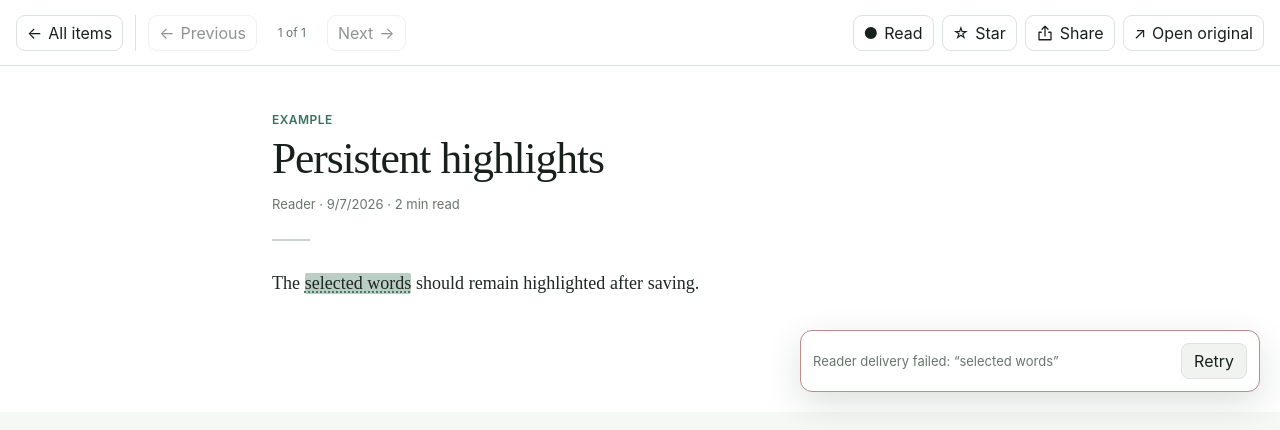
it: article highlights › offers a retry for failed Reader delivery and updates the existing mark after confirmation
This screenshot has width=1280, height=430.
Step 1. Click the button "Retry" → coordinates (1214, 361), box 1181,343 -> 1247,379
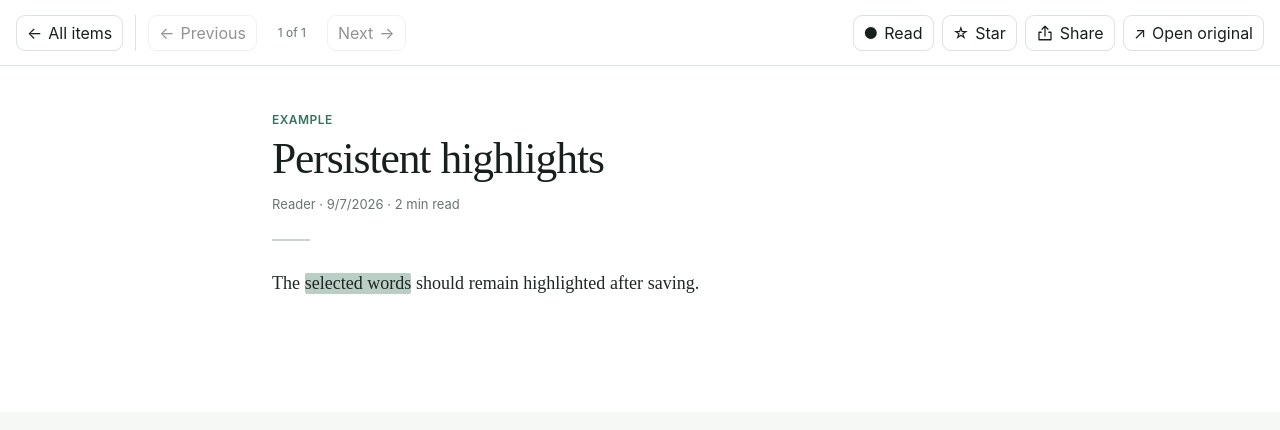
Expected: the text "selected words" is shown, 305,273 -> 411,294
Expected: the button "Retry" is gone
